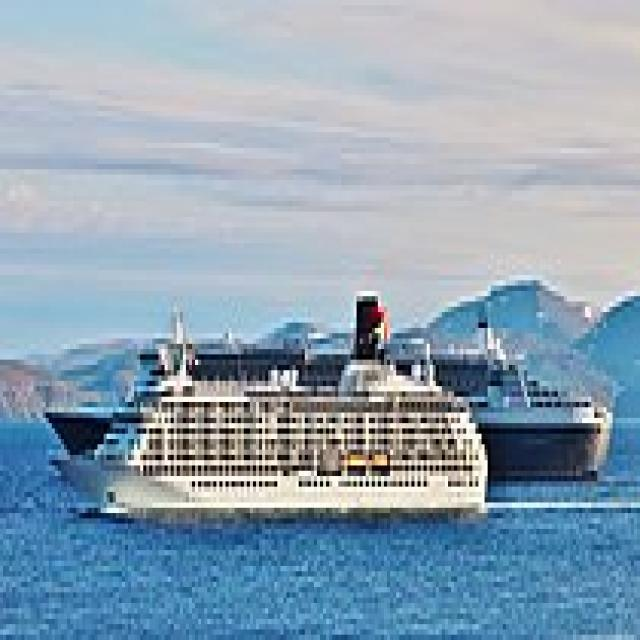Ship: (65, 282, 495, 541)
